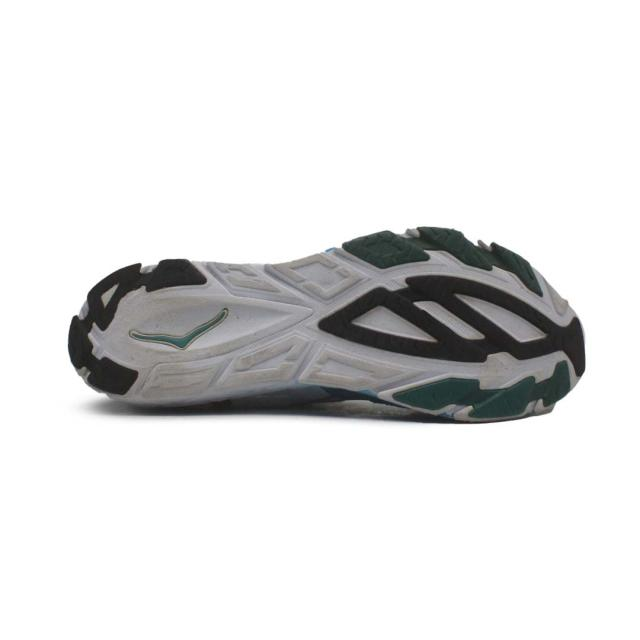outersole: (71, 229, 586, 421)
